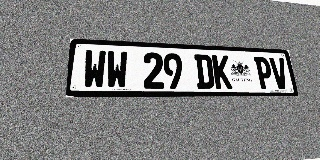2: (143, 52, 164, 89)
9: (163, 53, 184, 89)
D: (194, 54, 215, 89)
K: (212, 55, 232, 89)
P: (254, 57, 274, 89)
V: (269, 57, 290, 89)
W: (83, 50, 106, 89), (106, 51, 128, 89)
